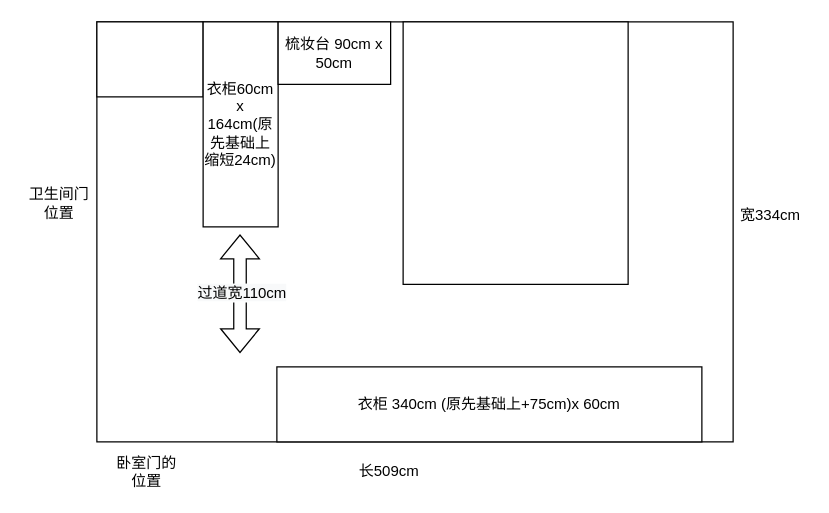
The diagram is 829 pixels wide and 513 high, and some of its shapes have lost their labels. The shapes that lost their labels are listed below. From the top down, each one's centre as x and y in pixels, then its label:
point (149, 59): 衣柜85cm x 60cm
point (515, 152): 180cm x 210cm
